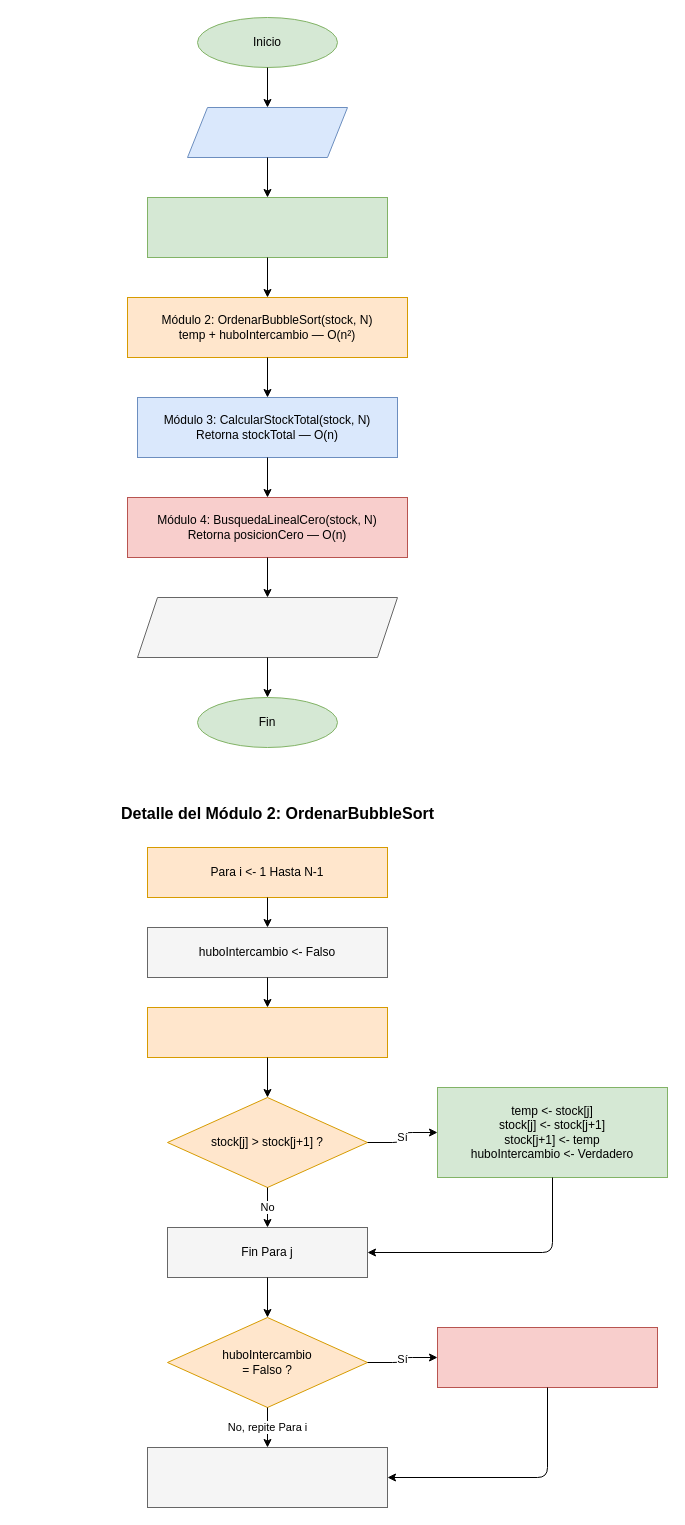
Some shapes in this 685 by 1525 pixel diagram are drawn without their labels. The box of each missing label's shape, as (x1, y1, x2, y2) in pixels:
Fin Para i (retorna a Módulo 3): (146, 1446, 388, 1508)
Leer N: (186, 106, 348, 158)
Módulo 1: LeerStocks(stock, N) Lectura con validación — O(n): (146, 196, 388, 258)
Módulo 5: MostrarReporte(stock, N, stockTotal, posicionCero) — O(n): (136, 596, 398, 658)
Para j <- 1 Hasta N-i: (146, 1006, 388, 1058)
Salir del ciclo (arreglo ya ordenado): (436, 1326, 658, 1388)
